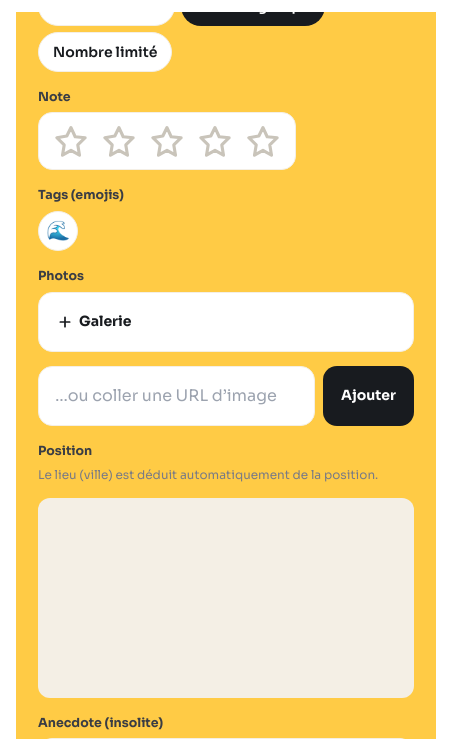
Test: AddActivityScreen › rejects an unsafe pasted URL: no photo added and an error is shown
The image size is (453, 739).
(page scrolled)
Step 1. Type "https://evil.com/a.jpg');alert(1)" into the field labelled "coller une URL d’image" → [177, 396], box [38,366,315,426]
Then press Enter
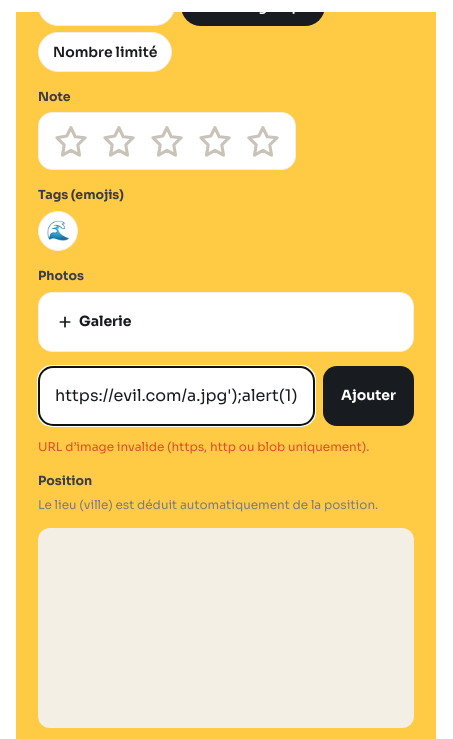
Now the message "URL d’image invalide (https, http ou blob uniquement)." is shown, box [38,438,414,456]
